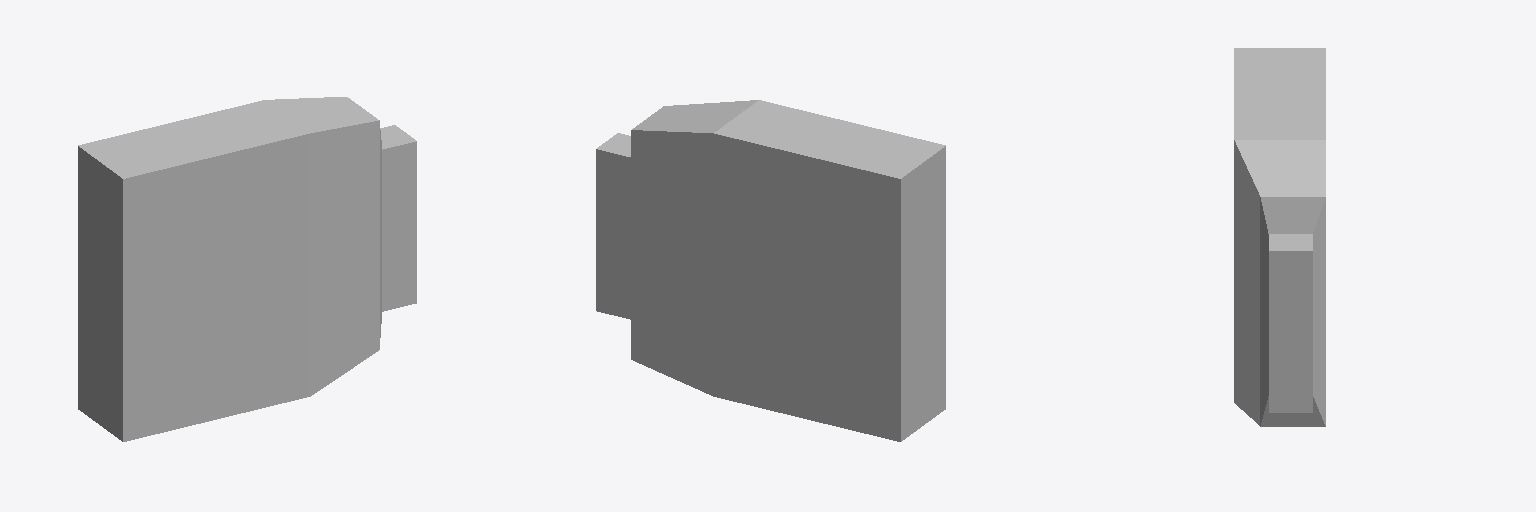
The model's file is testthing.obj.
3 renders of one model, left to right at view 1: azimuth 30°, elevation 25°; view 2: azimuth 150°, elevation 25°; view 3: azimuth 270°, elevation 25°, orthographic.
Visible parts, largest first — view 1: Cube.001_Cube.002, Cube.002_Cube.003, Cube.010_Cube.011, Cube.009_Cube.010, Cube.004_Cube.005, Cube.008_Cube.009, Cube.006_Cube.007; view 2: Cube.018_Cube.019, Cube.017_Cube.018, Cube.010_Cube.011, Cube.009_Cube.010, Cube.015_Cube.016, Cube.008_Cube.009; view 3: Cube.009_Cube.010, Cube.005_Cube.006, Cube.002_Cube.003, Cube.008_Cube.009, Cube.016_Cube.017, Cube.007_Cube.008, Cube.003_Cube.004, Cube.013_Cube.014, Cube.006_Cube.007.
Boxes of the visible parts, x1,y1,x2,y2 form: Cube.001_Cube.002: [123, 134, 309, 441]; Cube.002_Cube.003: [310, 120, 379, 396]; Cube.010_Cube.011: [78, 146, 122, 441]; Cube.009_Cube.010: [78, 100, 309, 178]; Cube.004_Cube.005: [382, 141, 416, 311]; Cube.008_Cube.009: [265, 97, 378, 132]; Cube.006_Cube.007: [380, 125, 415, 149]; Cube.018_Cube.019: [714, 134, 900, 441]; Cube.017_Cube.018: [631, 130, 713, 396]; Cube.010_Cube.011: [901, 146, 945, 441]; Cube.009_Cube.010: [714, 100, 945, 178]; Cube.015_Cube.016: [596, 149, 630, 319]; Cube.008_Cube.009: [632, 100, 758, 132]; Cube.009_Cube.010: [1234, 48, 1325, 139]; Cube.005_Cube.006: [1269, 251, 1312, 412]; Cube.002_Cube.003: [1234, 140, 1259, 425]; Cube.008_Cube.009: [1235, 140, 1325, 196]; Cube.016_Cube.017: [1313, 197, 1325, 425]; Cube.007_Cube.008: [1261, 197, 1324, 233]; Cube.003_Cube.004: [1260, 197, 1268, 425]; Cube.013_Cube.014: [1260, 396, 1325, 426]; Cube.006_Cube.007: [1269, 234, 1312, 250].
Size of the model in its own units: 29.72 by 24.03 by 7.57.